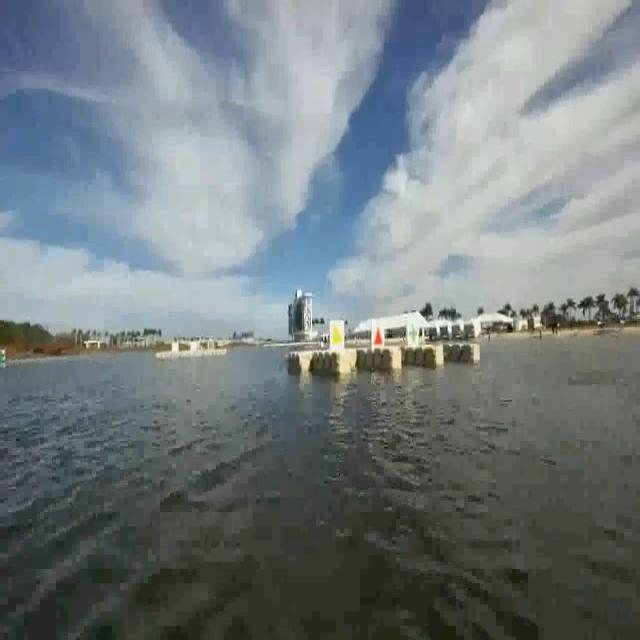blue-cross: (405, 314, 422, 346)
red-dot: (372, 317, 384, 348)
yellow-duck: (330, 324, 344, 350)
